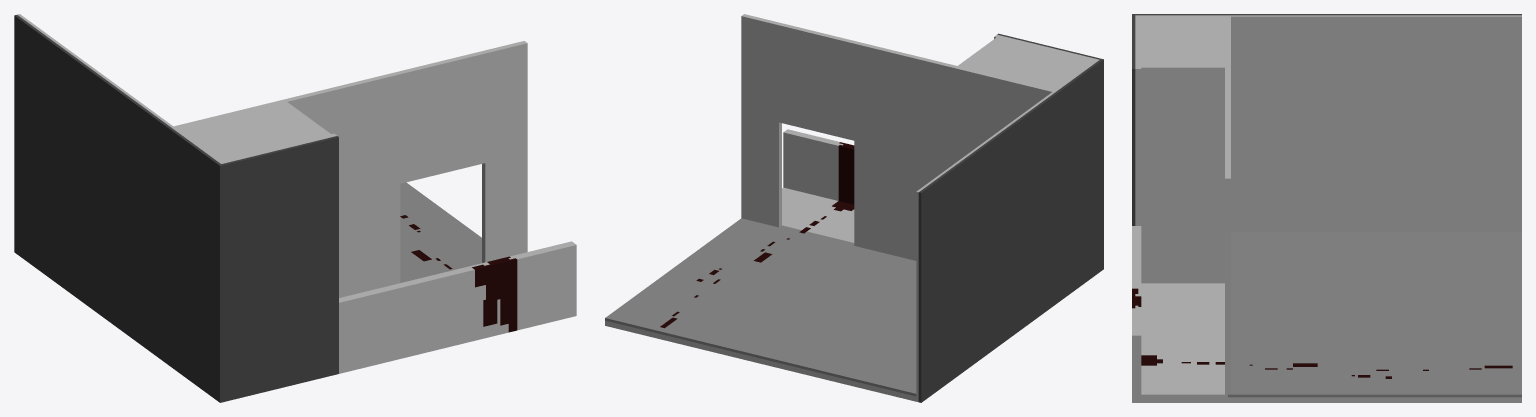
File: 4x2 fourth (1)-4.obj
3 views of the same model, side by side, from view 1: azimuth 30°, elevation 25°; view 2: azimuth 150°, elevation 25°; view 3: azimuth 270°, elevation 25° (orthographic). The views are drawn at different scales.
Visible parts, largest first — view 1: 4x2 fourth (1)-4; view 2: 4x2 fourth (1)-4; view 3: 4x2 fourth (1)-4.
Part boxes in pixels (bbox=[...]): 4x2 fourth (1)-4: bbox=[14, 14, 576, 402]; 4x2 fourth (1)-4: bbox=[605, 14, 1103, 402]; 4x2 fourth (1)-4: bbox=[1132, 14, 1521, 402].
Bounding box in the file's own units: 126 × 80 × 126.
Materials: 1 (1 with a texture image).
